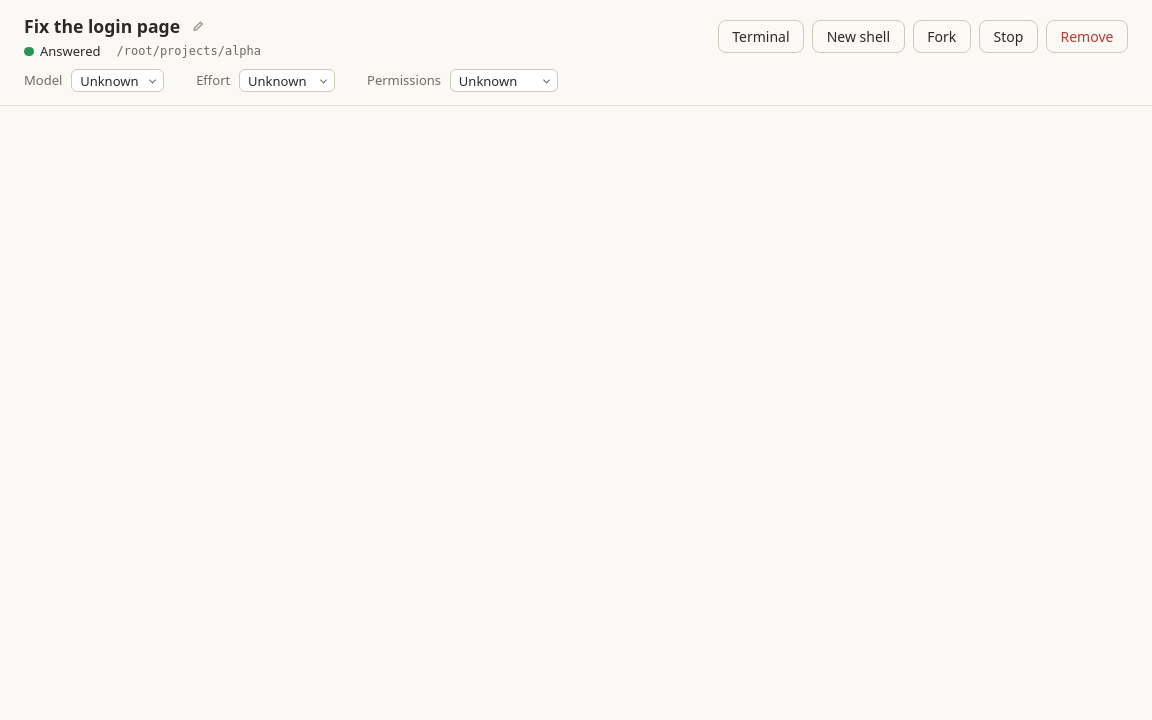
Fork asks for the first message of the fork, starts the fork on it, titled after it with the fork mark, and hands it on to be opened
Click the button "Fork": (942, 37) [913,20,971,54]
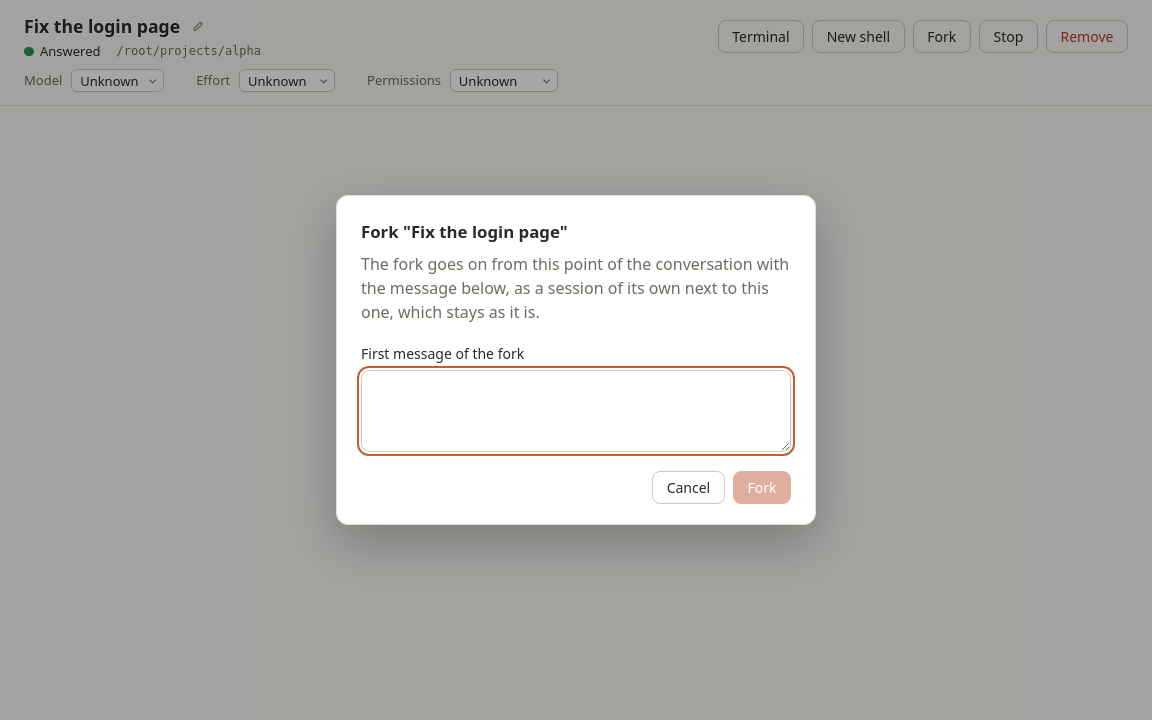
In the text box labelled "First message of the fork": (576, 411) [361,370,791,452], type "Try a passkey login instead"
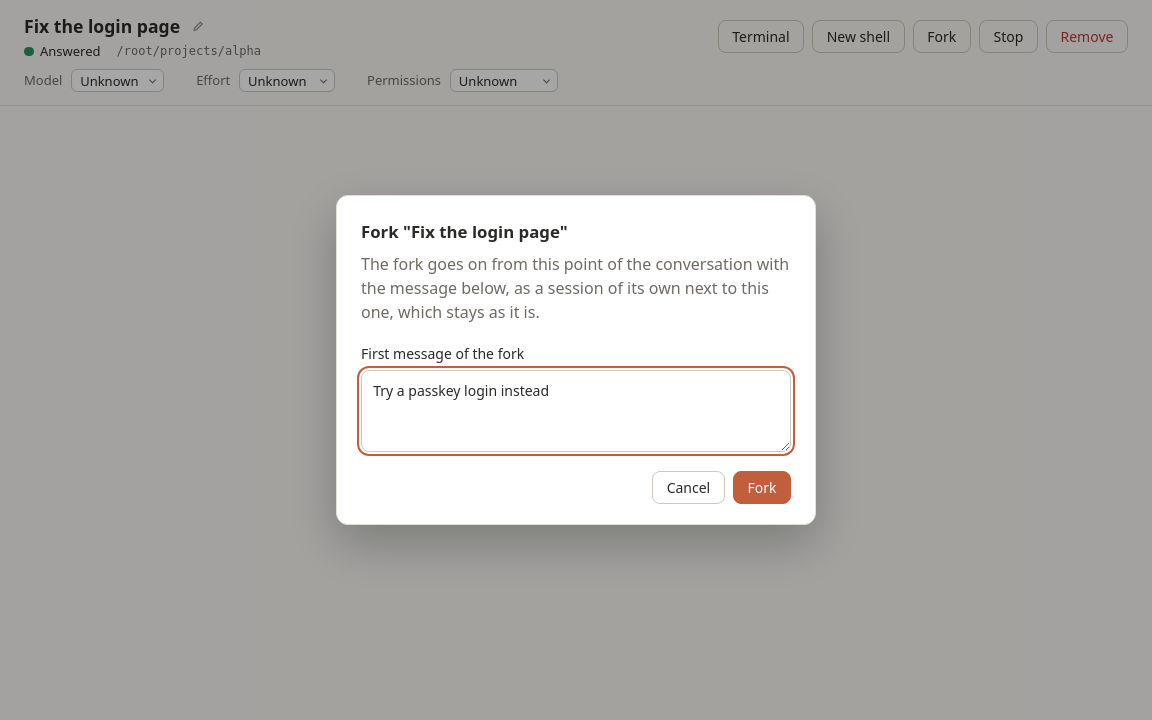
Click the button "Fork": (762, 488) [733,472,791,504]
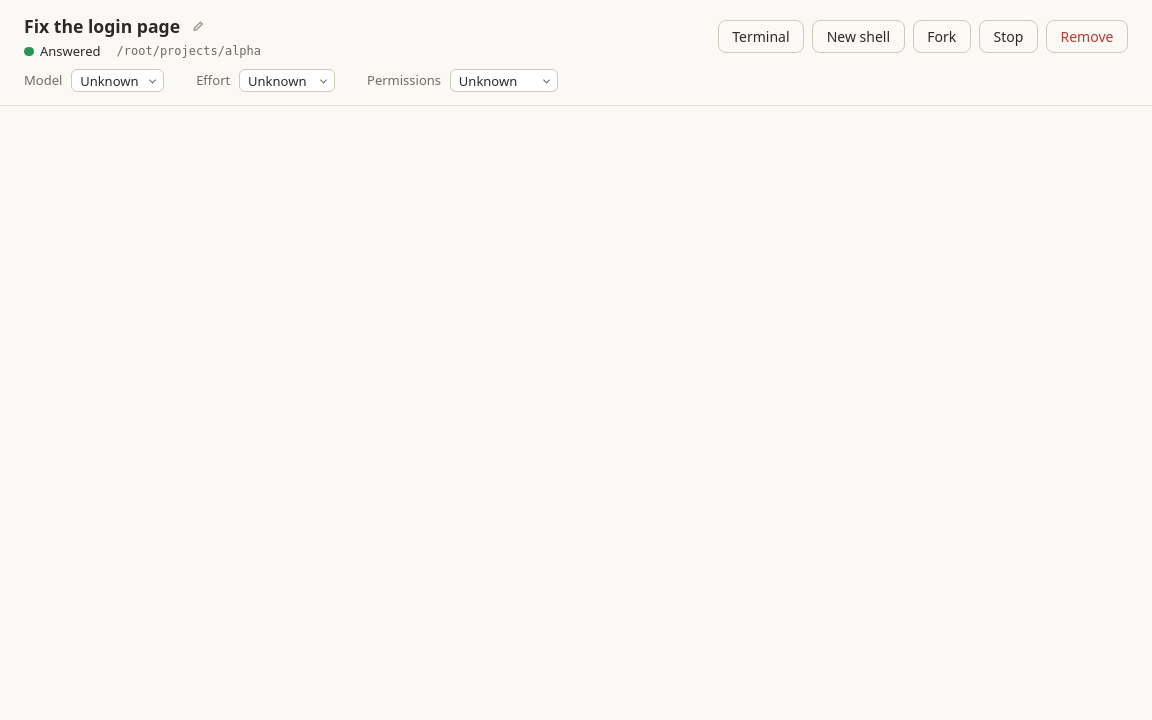
Expected: the dialog is gone
